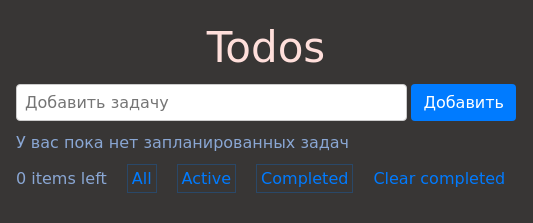
Test: Тестирование App компонента › очищает выполненные todo при нажатии кнопки "Очистить завершенные"
This screenshot has width=533, height=223.
Type "New Todo" into the field with placeholder "Добавить задачу" at (212, 102), box top-left (16, 84), bottom-right (408, 121)
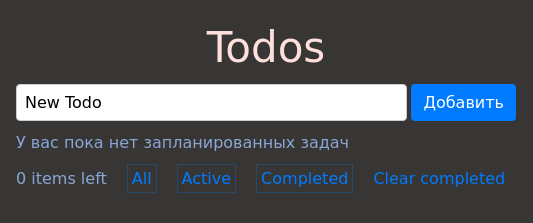
Press Enter in the field with placeholder "Добавить задачу", box top-left (16, 84), bottom-right (408, 121)
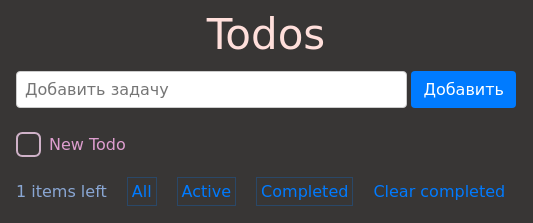
Result: the text "New Todo" is shown at top-left (49, 135), bottom-right (126, 154)
Click the button with test id "toggle-button" at (28, 144), box top-left (16, 132), bottom-right (41, 157)
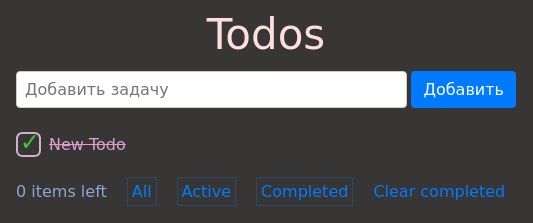
Click the button "Clear completed" at (439, 192), box top-left (373, 182), bottom-right (505, 201)
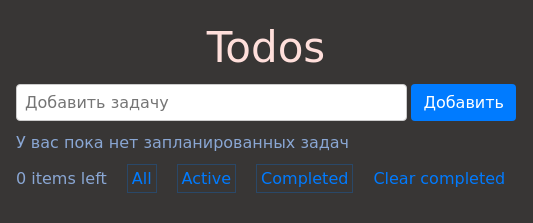
Result: the text "New Todo" is gone
